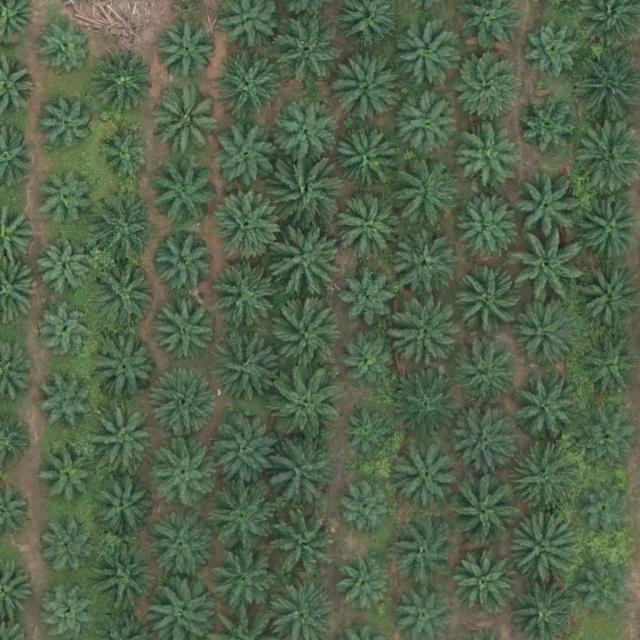Healthy: (507, 444, 578, 515), (274, 302, 345, 373), (212, 331, 283, 402), (149, 369, 220, 440), (509, 299, 580, 369), (456, 548, 526, 619), (450, 472, 520, 543), (447, 404, 517, 475), (453, 265, 523, 336), (389, 233, 459, 304), (393, 367, 463, 438), (387, 517, 457, 588), (269, 159, 339, 230), (272, 229, 342, 300), (271, 368, 341, 439), (269, 505, 339, 576), (208, 415, 278, 486), (212, 262, 283, 332), (212, 189, 282, 260), (149, 512, 219, 583), (89, 542, 159, 613), (90, 408, 161, 478), (89, 257, 160, 327), (90, 194, 160, 265), (450, 47, 520, 118), (392, 20, 462, 91), (333, 51, 403, 122), (211, 48, 282, 118), (154, 87, 224, 158), (511, 234, 581, 304), (512, 372, 582, 442), (512, 515, 582, 585), (393, 159, 463, 229), (394, 304, 464, 374), (394, 442, 464, 512), (334, 192, 404, 262), (266, 437, 336, 507), (207, 540, 277, 610), (207, 483, 277, 553), (148, 160, 218, 230), (273, 17, 343, 87), (574, 410, 637, 473), (460, 197, 523, 260), (95, 339, 158, 402), (332, 130, 395, 193), (275, 102, 338, 165), (512, 179, 575, 241), (457, 345, 519, 408), (339, 268, 401, 331), (151, 234, 213, 297), (156, 299, 218, 362), (154, 447, 216, 510), (89, 474, 151, 537), (517, 92, 579, 155), (525, 17, 587, 80), (454, 123, 516, 186), (397, 91, 459, 154), (213, 124, 275, 187), (158, 20, 220, 83), (92, 54, 154, 116), (579, 483, 634, 538), (339, 556, 394, 611), (339, 479, 394, 534), (35, 174, 90, 229), (38, 244, 93, 299), (38, 304, 93, 359), (39, 379, 94, 434), (41, 448, 96, 503), (44, 523, 99, 578), (98, 124, 153, 179), (39, 96, 94, 151), (37, 19, 92, 74), (577, 555, 631, 610), (346, 333, 400, 388)
Small: (345, 410, 392, 457)
